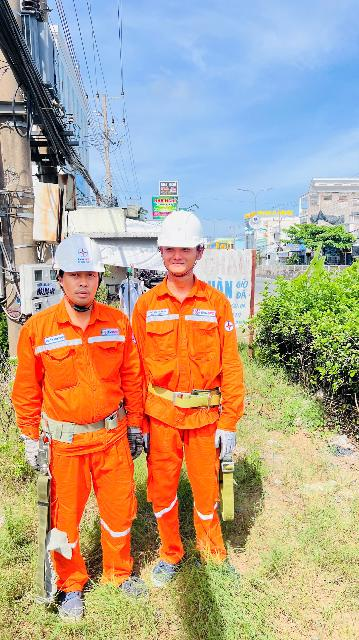gloves: (20, 432, 53, 469), (213, 422, 237, 459), (123, 425, 143, 458), (140, 427, 153, 455)
harness: (32, 397, 133, 447), (142, 369, 223, 417)
helmet: (46, 233, 114, 282), (155, 207, 205, 251)
shoes: (54, 584, 90, 624), (111, 568, 151, 604), (197, 555, 246, 583), (142, 553, 178, 588)
